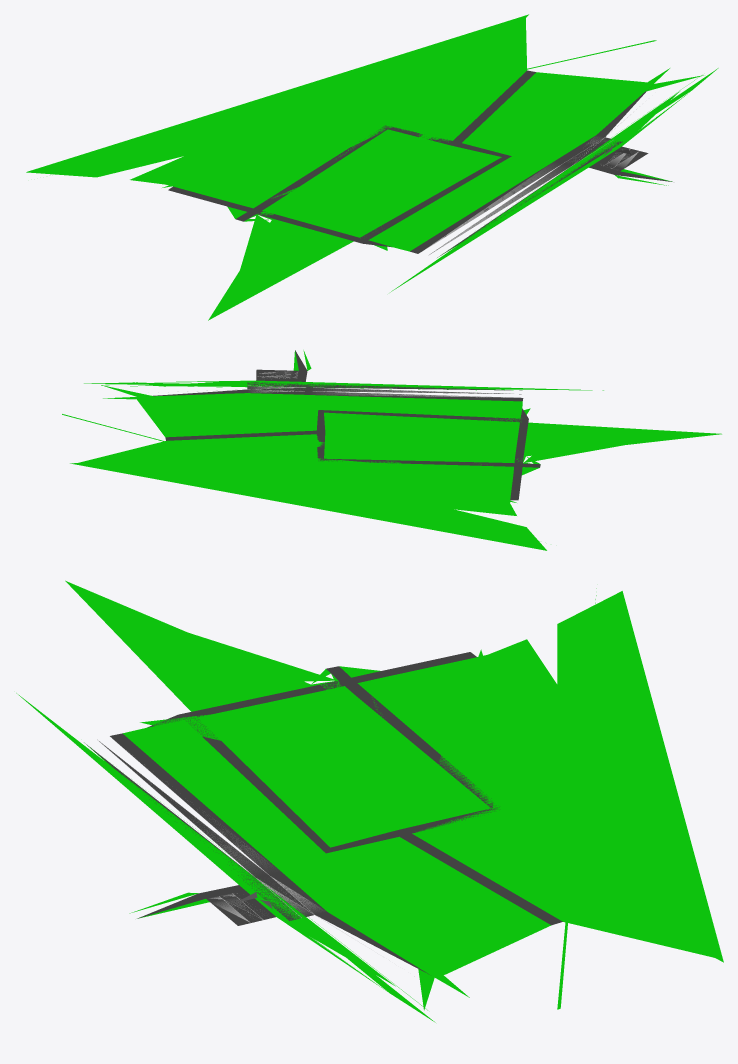
3 renders of one model, top to bottom at view 1: azimuth 30°, elevation 25°; view 2: azimuth 150°, elevation 25°; view 3: azimuth 270°, elevation 25°, orthographic. The views are drawn at different scales.
Bounding box in the file's own units: 270 × 2.5 × 173.
